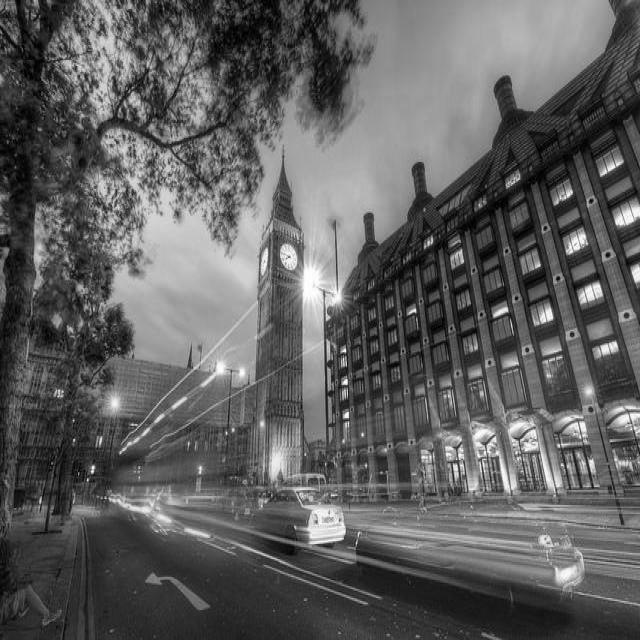vehicle: (355, 496, 585, 602), (251, 486, 346, 555)
